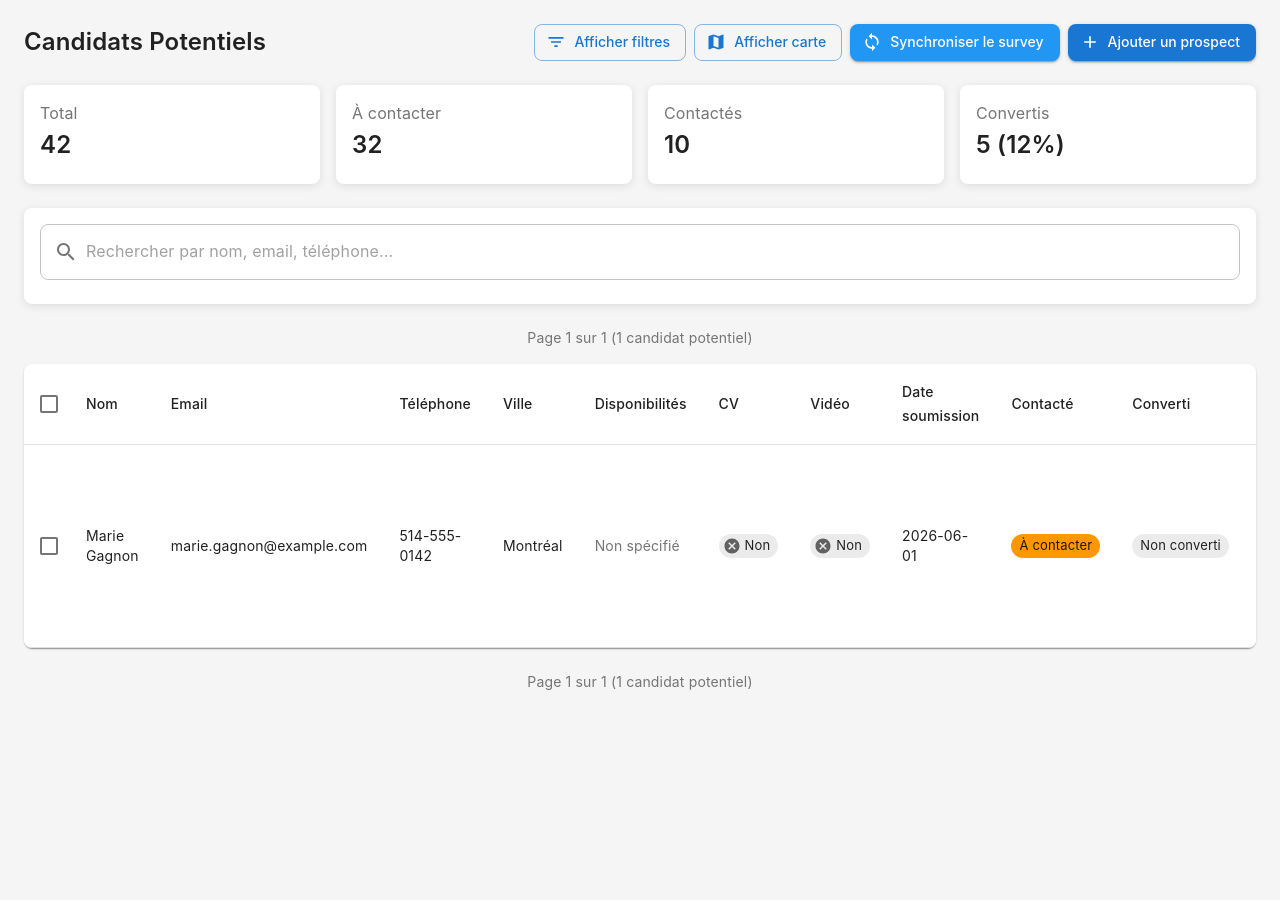
Test: ProspectsPage › sélectionner une ligne ouvre la barre d'actions groupées
Expected: the text "Marie Gagnon" is shown, [86,526,139,566]
Click the checkbox in the row of "marie.gagnon@example.com" at (49, 546), box [37,534,61,558]
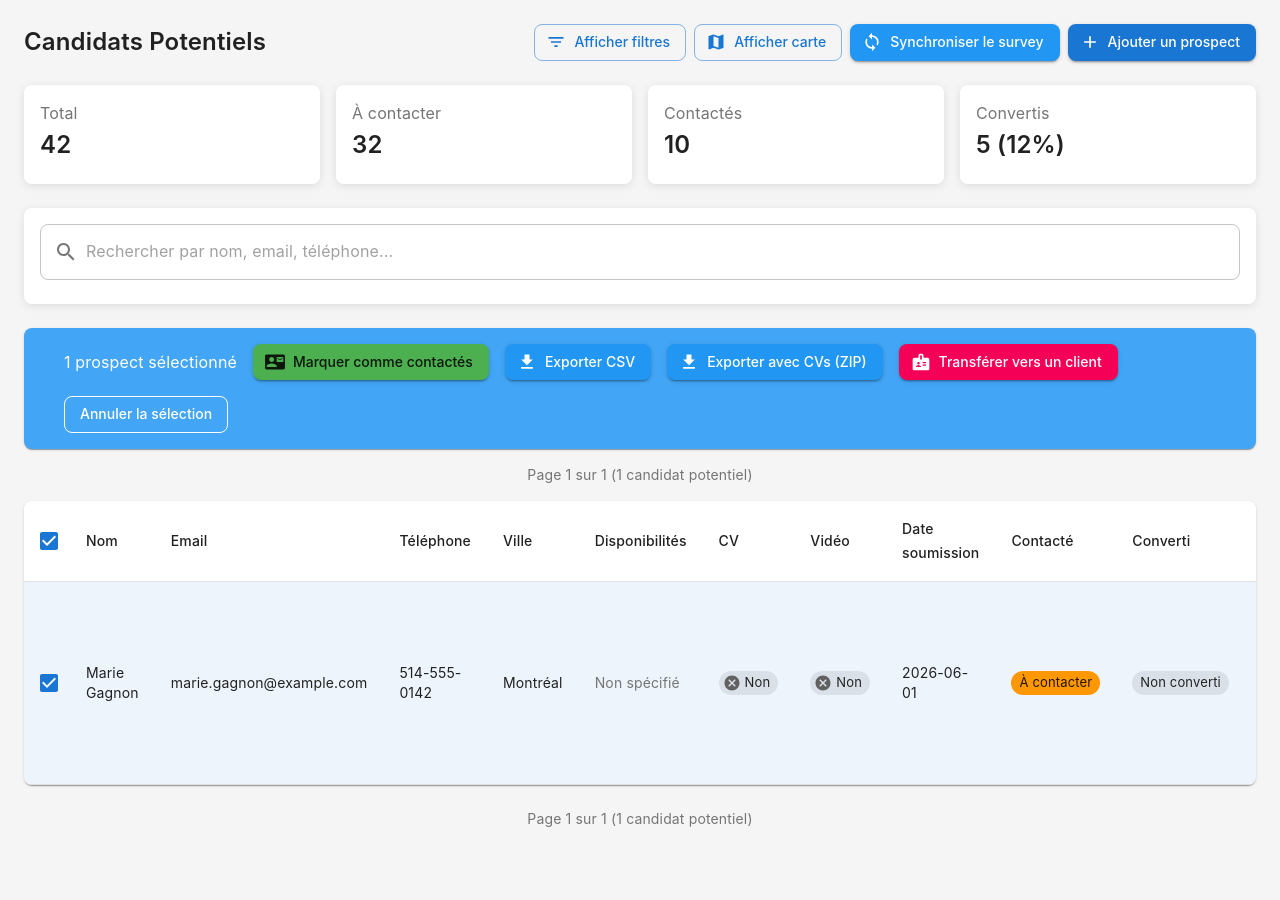
Expected: the heading "1 prospect sélectionné" is shown, [64,348,237,376]
Expected: the button "Marquer comme contactés" is shown, [253,344,489,380]
Expected: the button "Exporter CSV" is shown, [505,344,651,380]
